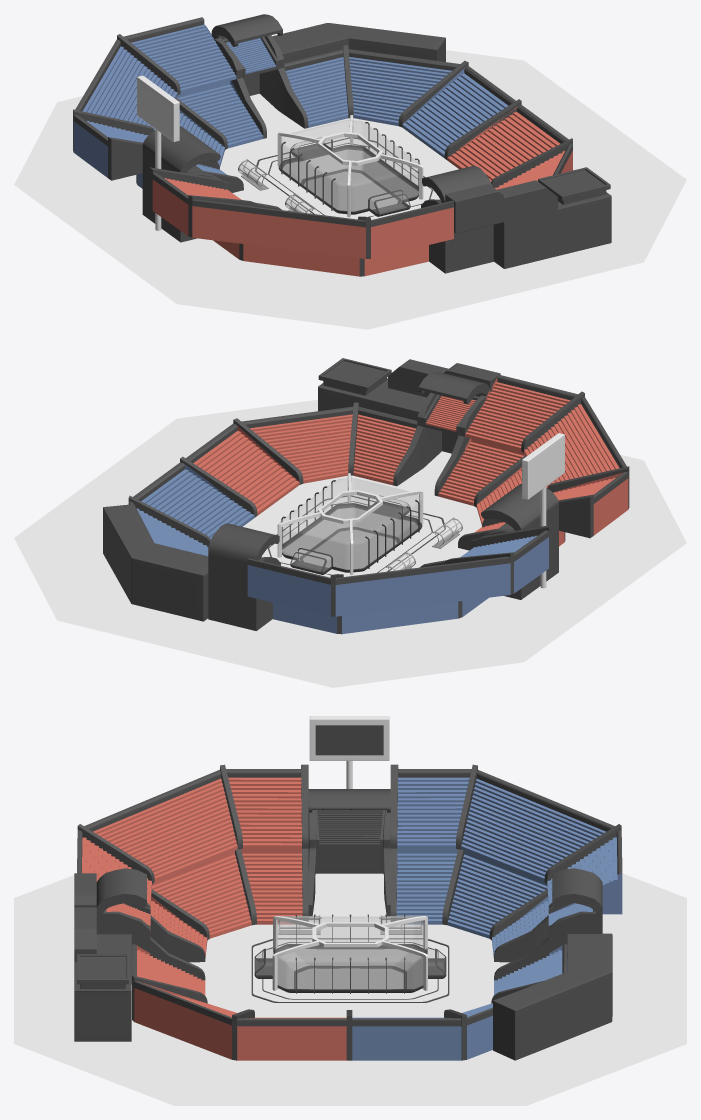
The model's file is Stadium.fbx.
3 renders of one model, top to bottom at view 1: azimuth 30°, elevation 25°; view 2: azimuth 150°, elevation 25°; view 3: azimuth 270°, elevation 25°, orthographic. The views are drawn at different scales.
Visible parts, largest first — view 1: pPlane3, polySurface323, polySurface156, pasted__pCube5, polySurface300, polySurface36, polySurface40, polySurface318, pCube5, polySurface317, polySurface227, polySurface41 (+8 smaller); view 2: pPlane3, polySurface323, polySurface156, polySurface300, pCube5, polySurface36, pasted__pCube5, polySurface318, polySurface40, polySurface317, polySurface227, polySurface41 (+8 smaller); view 3: pPlane3, polySurface323, polySurface156, polySurface300, pCube5, polySurface36, pasted__pCube5, polySurface40, polySurface317, polySurface227, polySurface318, polySurface41 (+3 smaller).
Boxes of the visible parts, x1=… form: pPlane3: x1=14, y1=50, x2=686, y2=329; polySurface323: x1=73, y1=17, x2=453, y2=276; polySurface156: x1=284, y1=49, x2=572, y2=189; pasted__pCube5: x1=445, y1=167, x2=611, y2=268; polySurface300: x1=73, y1=34, x2=572, y2=276; polySurface36: x1=279, y1=120, x2=420, y2=210; polySurface40: x1=282, y1=149, x2=418, y2=211; polySurface318: x1=211, y1=14, x2=308, y2=138; pCube5: x1=272, y1=23, x2=445, y2=63; polySurface317: x1=421, y1=165, x2=493, y2=273; polySurface227: x1=142, y1=126, x2=231, y2=242; polySurface41: x1=255, y1=137, x2=440, y2=219; pPlane3: x1=14, y1=399, x2=686, y2=687; polySurface323: x1=247, y1=375, x2=628, y2=634; polySurface156: x1=128, y1=406, x2=417, y2=556; polySurface300: x1=128, y1=391, x2=629, y2=634; pCube5: x1=103, y1=504, x2=208, y2=621; polySurface36: x1=280, y1=478, x2=421, y2=568; pasted__pCube5: x1=318, y1=358, x2=500, y2=420; polySurface318: x1=208, y1=523, x2=280, y2=630; polySurface40: x1=282, y1=507, x2=418, y2=569; polySurface317: x1=393, y1=371, x2=490, y2=496; polySurface227: x1=470, y1=483, x2=558, y2=599; polySurface41: x1=261, y1=495, x2=445, y2=577; pPlane3: x1=14, y1=873, x2=686, y2=1105; polySurface323: x1=77, y1=769, x2=622, y2=958; polySurface156: x1=132, y1=944, x2=567, y2=1060; polySurface300: x1=77, y1=764, x2=621, y2=1060; pCube5: x1=493, y1=933, x2=612, y2=1060; polySurface36: x1=275, y1=917, x2=425, y2=988; pasted__pCube5: x1=74, y1=873, x2=131, y2=1041; polySurface40: x1=277, y1=949, x2=423, y2=989; polySurface317: x1=96, y1=868, x2=205, y2=984; polySurface227: x1=308, y1=789, x2=390, y2=915; polySurface318: x1=494, y1=868, x2=602, y2=980; polySurface41: x1=251, y1=938, x2=449, y2=1002.
Bounding box in the file's own units: 4509 × 1284 × 4758.
